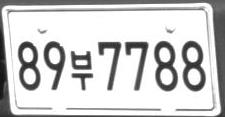7: (97, 41, 121, 91), (124, 41, 148, 91)
8: (153, 39, 178, 92), (181, 39, 206, 92), (17, 40, 40, 91)
9: (42, 40, 66, 90)
부: (70, 50, 93, 91)
